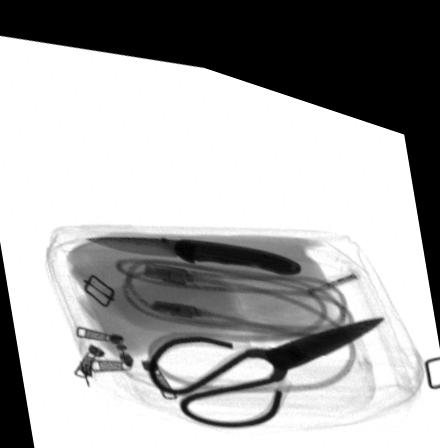Knife: (82, 226, 304, 256)
Scissors: (148, 291, 383, 415)
